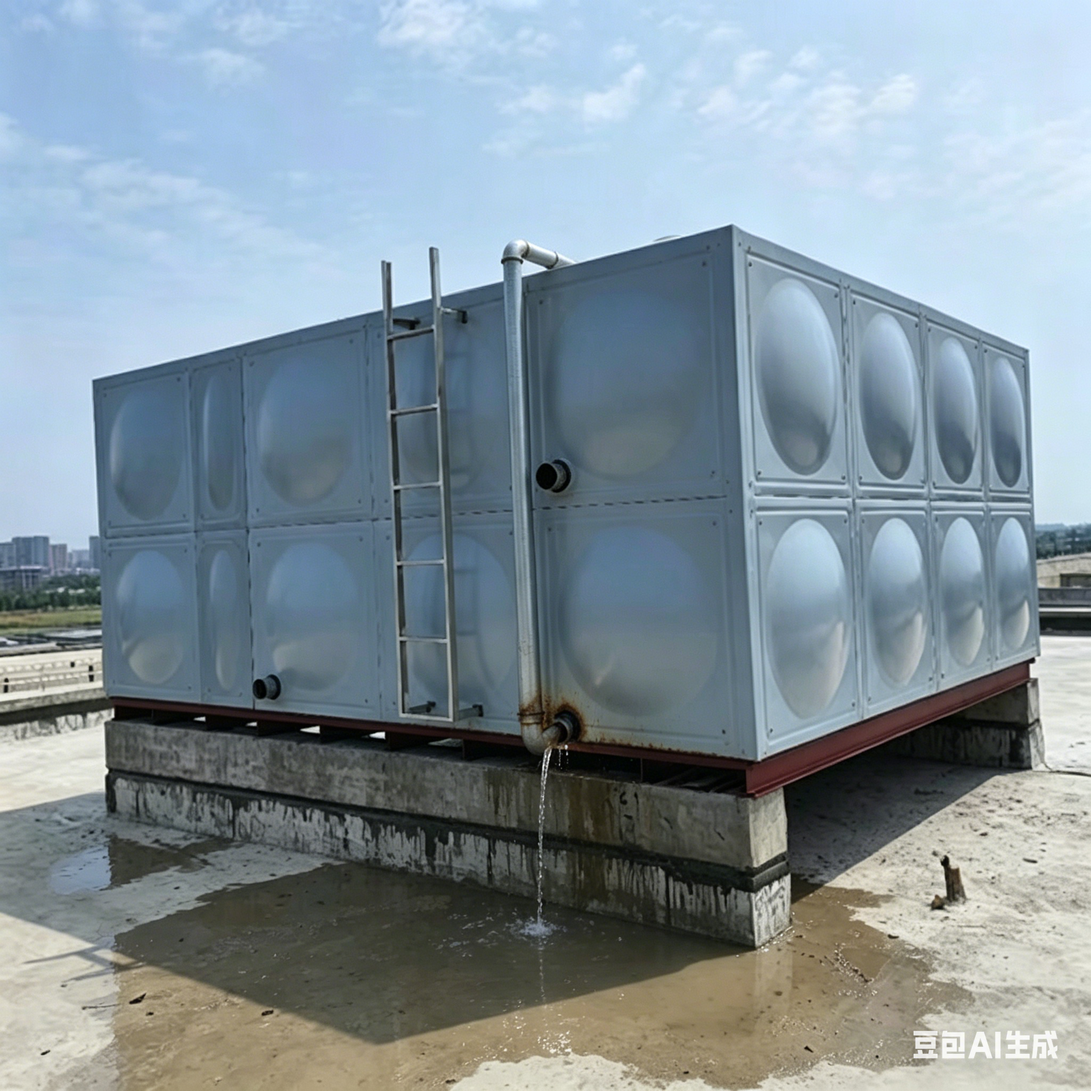Leakage: (100, 921, 927, 1091), (483, 698, 596, 908), (209, 858, 461, 909), (54, 838, 180, 880)
